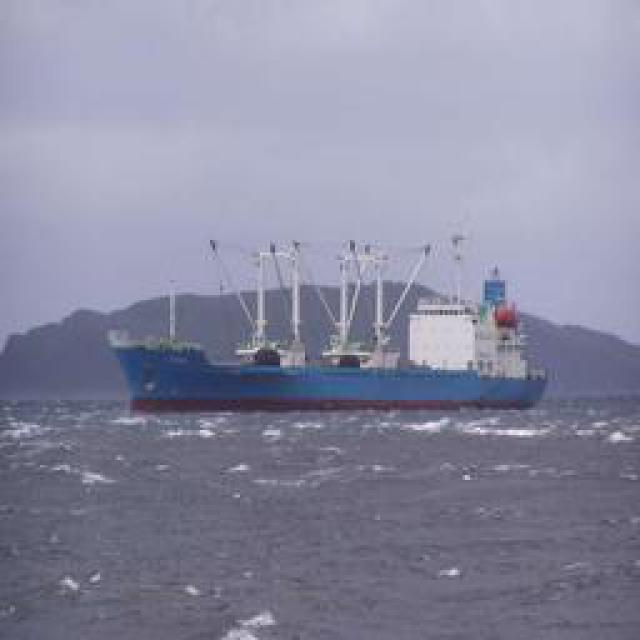Ship: (105, 225, 555, 423)
